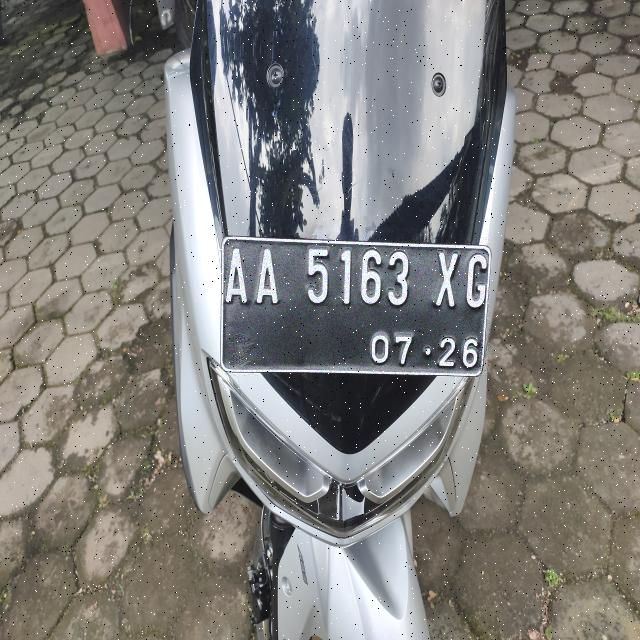plate: (222, 238, 489, 375)
